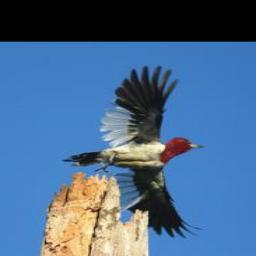Woodpecker: (62, 64, 206, 239)
